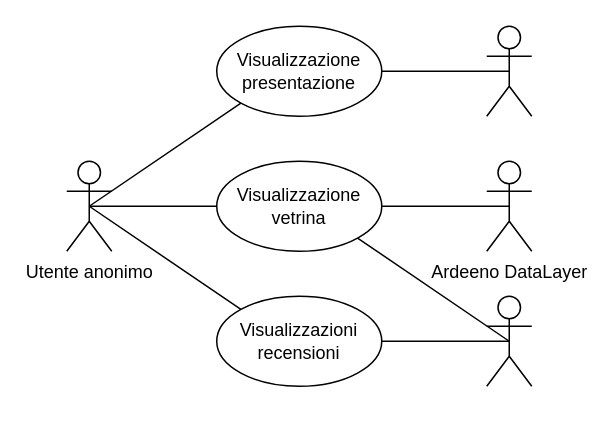
Image size: 614x444. Some labels were removed from this diagram. The shapes that lost their labels are listed below. From the top down, each one's box as (x1, y1, x2, y2) in pixels, then its label:
(485, 25, 532, 116): OpenStreetMap
(485, 295, 532, 386): TrustPilot
